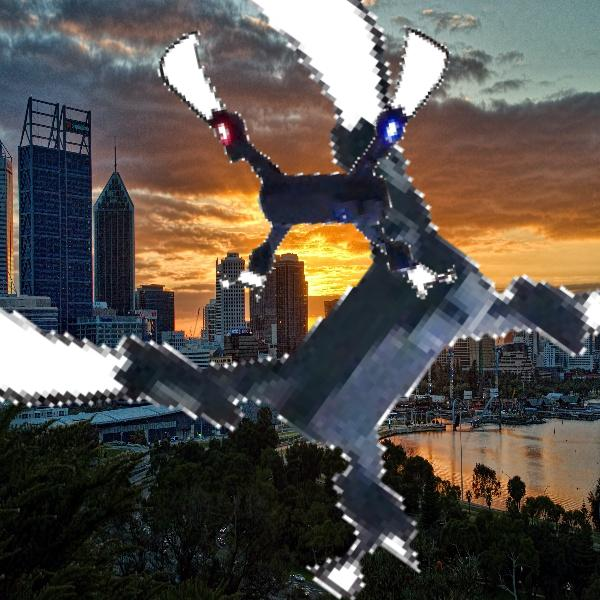drone: (158, 2, 480, 324)
